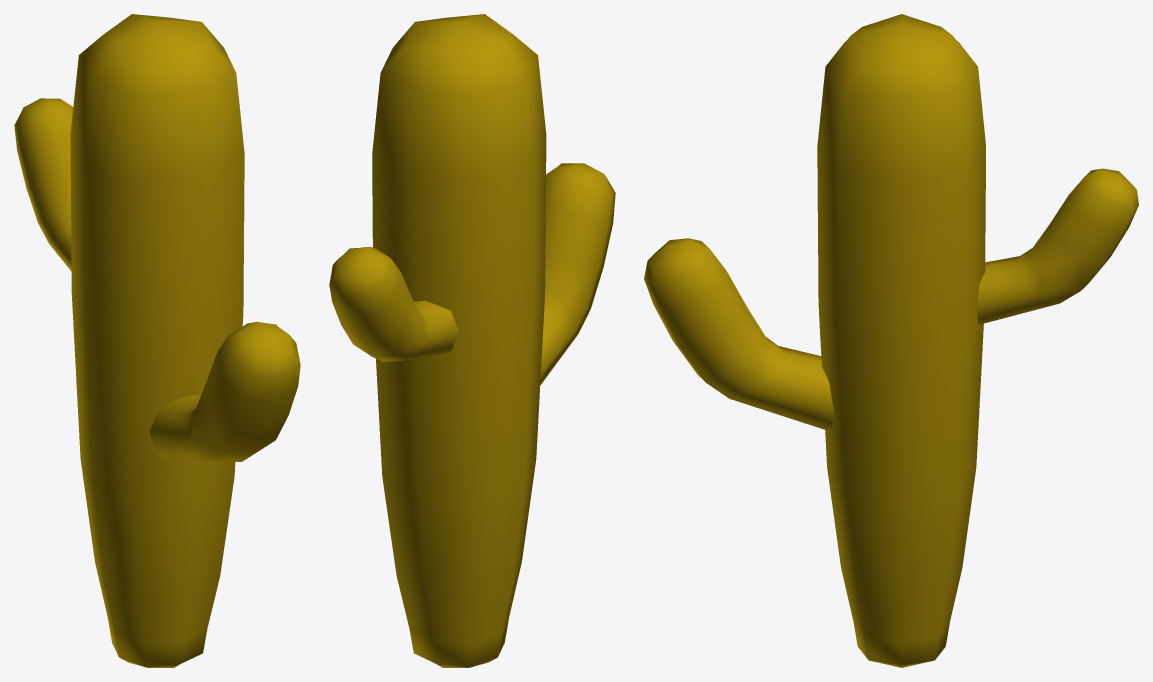
Rendered from Cactus_1.fbx.
3 renders of one model, left to right at view 1: azimuth 30°, elevation 25°; view 2: azimuth 150°, elevation 25°; view 3: azimuth 270°, elevation 25°, orthographic.
Visible parts, largest first — view 1: Cactus_3; view 2: Cactus_3; view 3: Cactus_3.
Boxes of the visible parts, <box> form: Cactus_3: <box>14,14,300,667</box>; Cactus_3: <box>329,14,615,667</box>; Cactus_3: <box>644,14,1138,667</box>.
Size of the model in its own units: 34.18 by 141 by 100.
